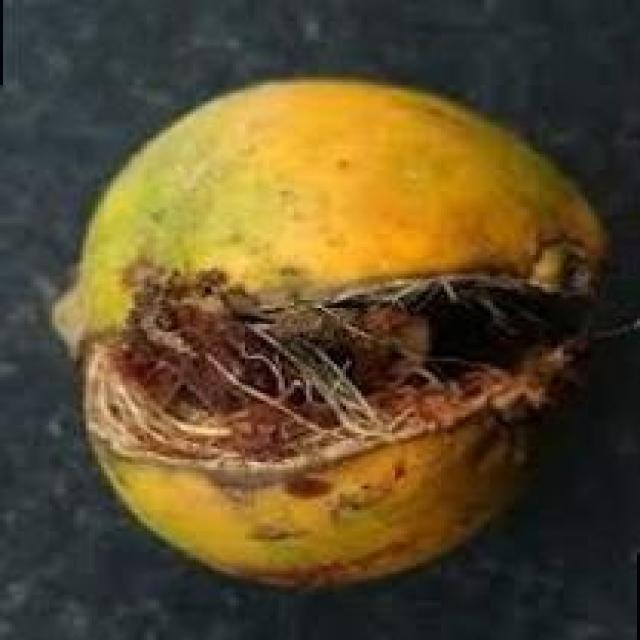damaged: (49, 80, 612, 598)
